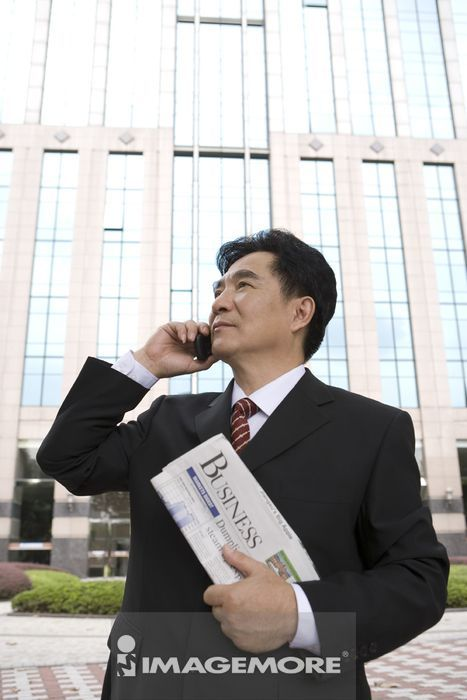talk: (136, 262, 270, 383)
